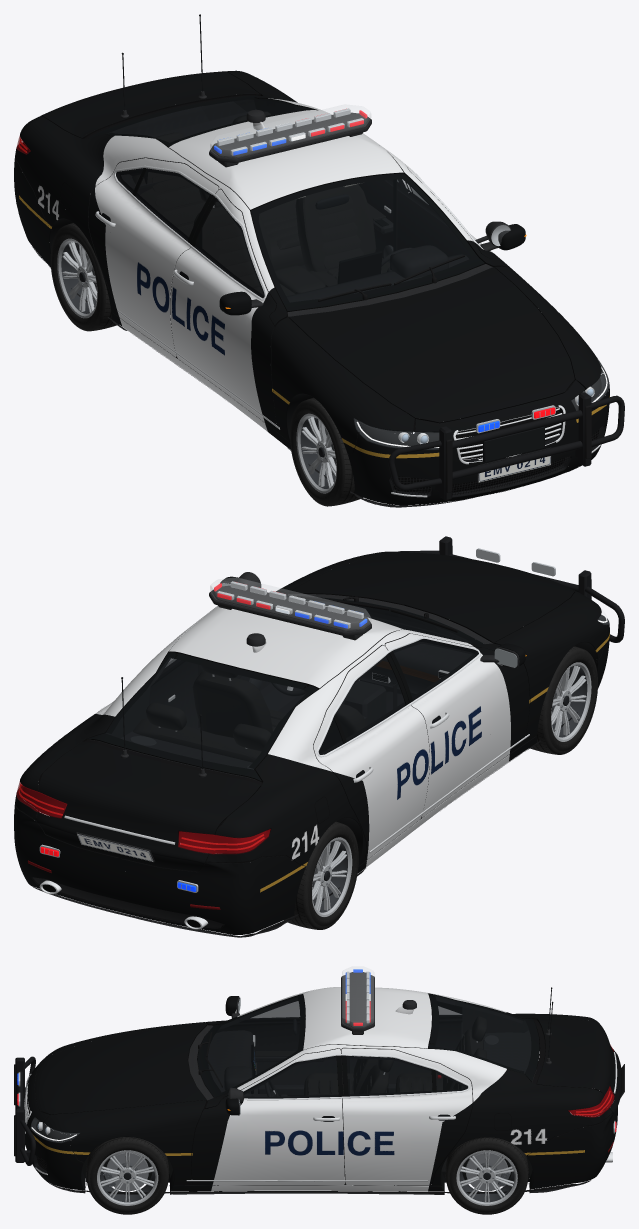
The model's file is city-police.glb.
The picture shows the model from 3 angles, top to bottom: view 1: azimuth 30°, elevation 25°; view 2: azimuth 150°, elevation 25°; view 3: azimuth 270°, elevation 25°; orthographic projection. The views are drawn at different scales.
Parts seen in each view (by area): view 1: Body, Wheel_FR, Wheel_RR; view 2: Body, Wheel_RR, Wheel_FR; view 3: Body, Wheel_FL, Wheel_RL.
Boxes of the visible parts, box(x1,y1,x2,y2) form: Body: box(14, 14, 624, 507); Wheel_FR: box(290, 397, 363, 506); Wheel_RR: box(50, 223, 118, 331); Body: box(14, 536, 624, 937); Wheel_RR: box(284, 821, 358, 929); Wheel_FR: box(530, 646, 597, 754); Body: box(14, 966, 624, 1194); Wheel_FL: box(86, 1137, 169, 1214); Wheel_RL: box(445, 1137, 528, 1214).
Size of the model in its own units: 2.17 by 1.66 by 5.06.
Materials: 72 (15 with a texture image).
